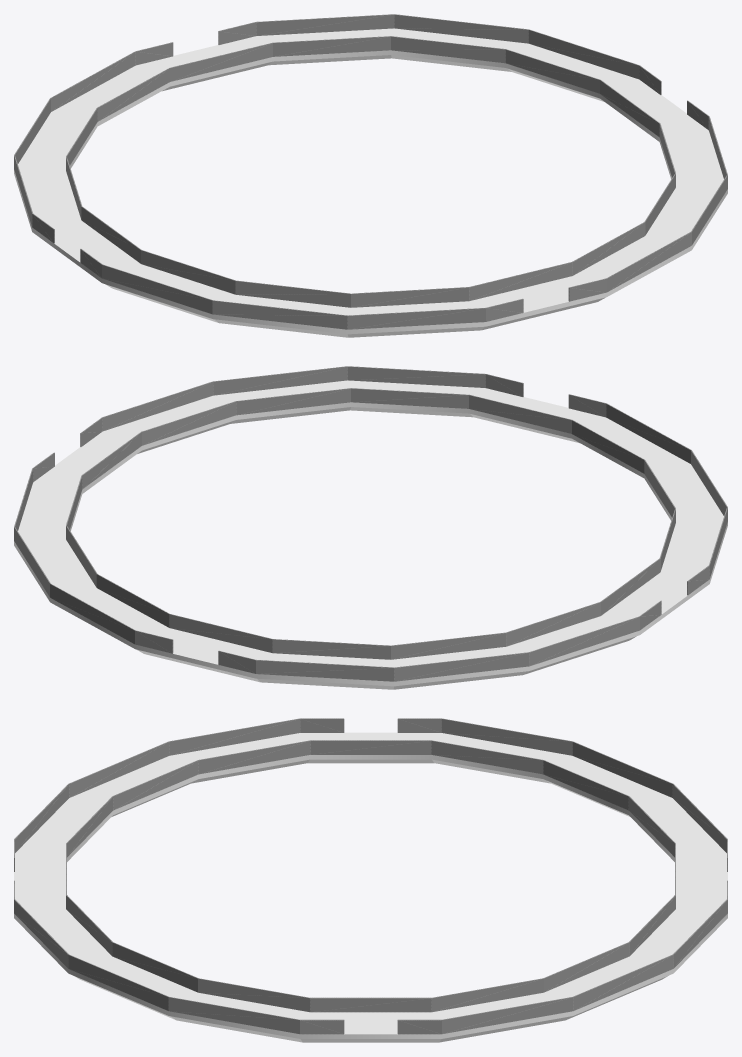
Rendered from Thresher-Room-Walkway-Ring.obj.
3 renders of one model, top to bottom at view 1: azimuth 30°, elevation 25°; view 2: azimuth 150°, elevation 25°; view 3: azimuth 270°, elevation 25°, orthographic.
Visible parts, largest first — view 1: Thresher-Room-Walkway-Ring; view 2: Thresher-Room-Walkway-Ring; view 3: Thresher-Room-Walkway-Ring.
Boxes of the visible parts, x1,y1,x2,y2 form: Thresher-Room-Walkway-Ring: (14, 14, 727, 337); Thresher-Room-Walkway-Ring: (14, 366, 727, 689); Thresher-Room-Walkway-Ring: (14, 718, 727, 1042).
Bounding box in the file's own units: 68.85 × 3 × 68.85.
